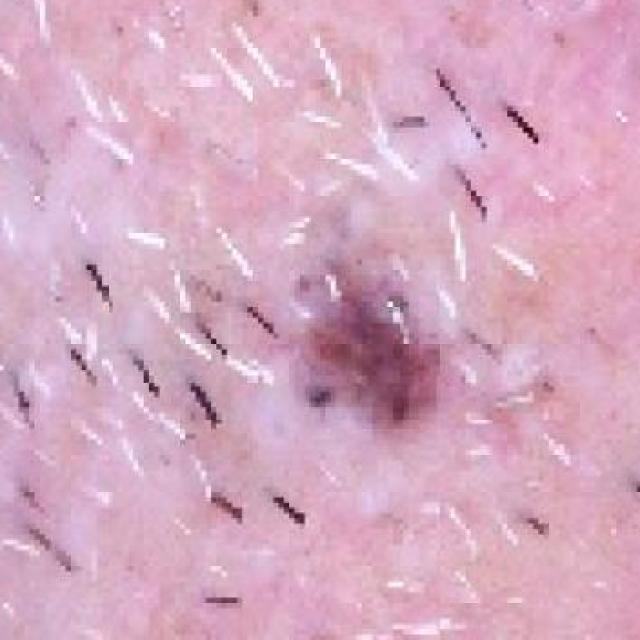BCC: (142, 176, 618, 568)
